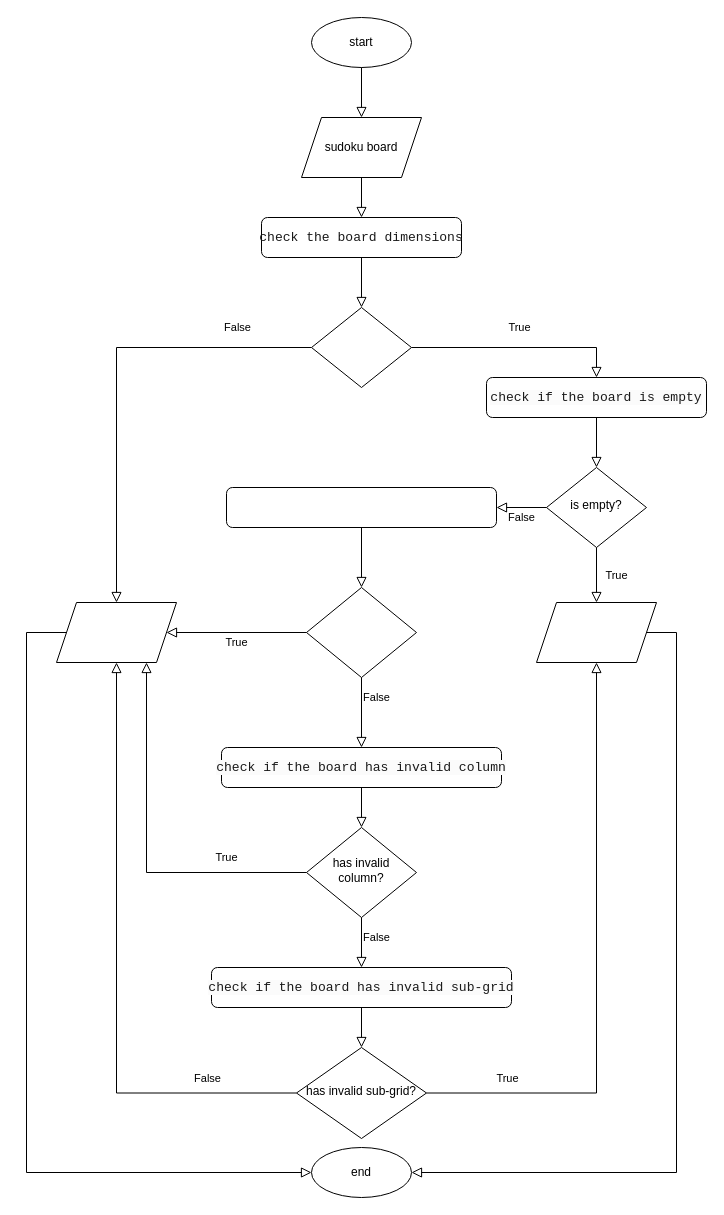
This 724x1215 diagram has some shape labels left out. Here are the shapes that lost their labels. From the top down, the box of each, then its label:
(310, 306, 412, 388): valid dimensions?
(226, 486, 496, 528): check if the board has invalid row
(56, 602, 176, 662): invalid sudoku
(306, 586, 416, 678): has invalid row?
(536, 602, 656, 662): valid sudoku
